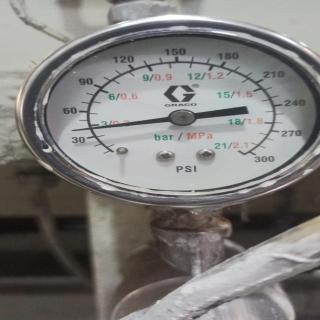gauge: (13, 17, 320, 208), (100, 144, 130, 163), (169, 107, 195, 127), (235, 148, 260, 166), (68, 126, 80, 134)
